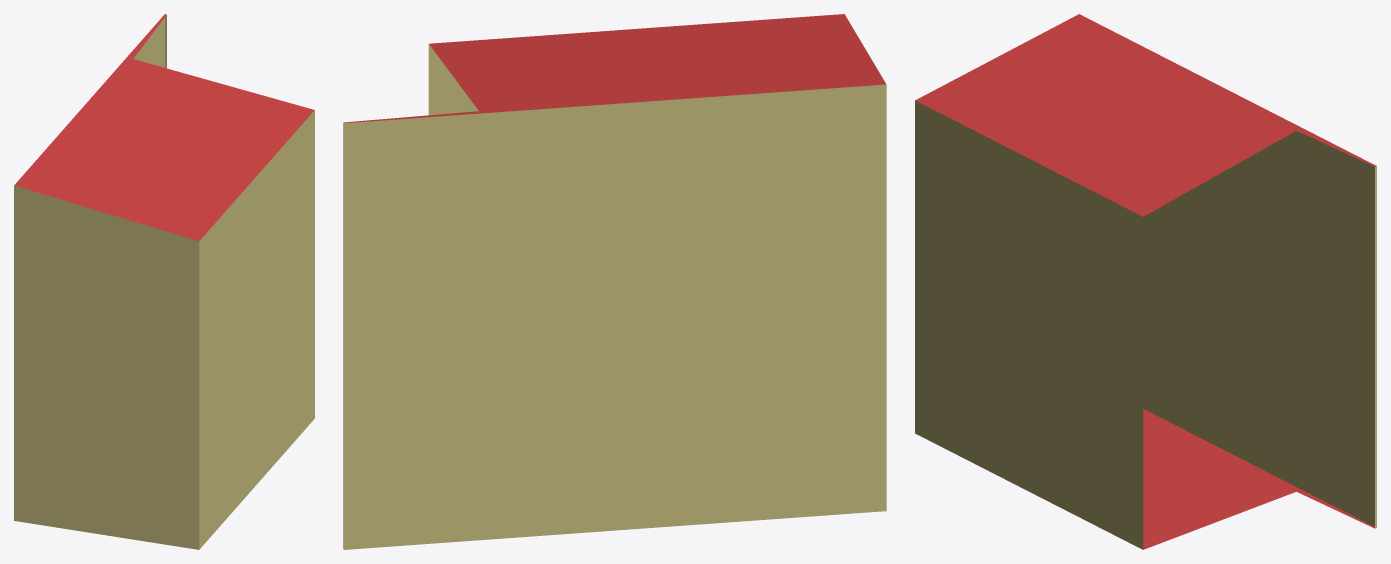
The picture shows the model from 3 angles, left to right: view 1: azimuth 30°, elevation 25°; view 2: azimuth 150°, elevation 25°; view 3: azimuth 270°, elevation 25°; orthographic projection. The views are drawn at different scales.
Parts seen in each view (by area): view 1: group_4, group_3; view 2: group_4, group_3; view 3: group_4, group_3, group_5.
Part boxes in pixels (x1,y1,x2,y2): group_4: (14, 15, 314, 549); group_3: (14, 14, 314, 240); group_4: (343, 44, 886, 549); group_3: (343, 14, 885, 123); group_4: (915, 100, 1376, 549); group_3: (915, 14, 1376, 216); group_5: (1143, 409, 1374, 549).
Bounding box in the file's own units: 8.96 × 10.06 × 8.7.
